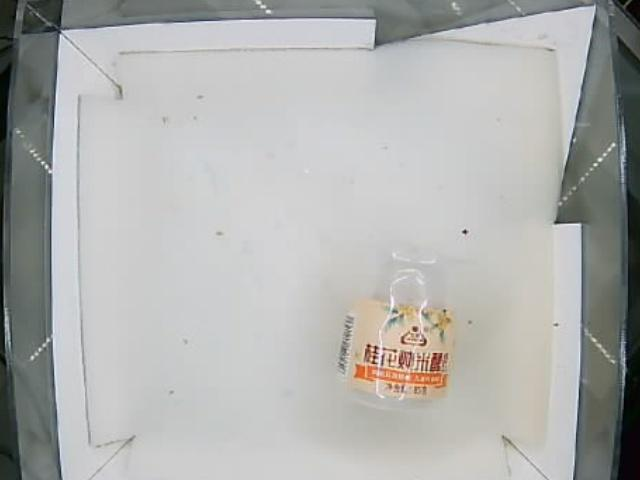Bottle: (337, 236, 457, 411)
